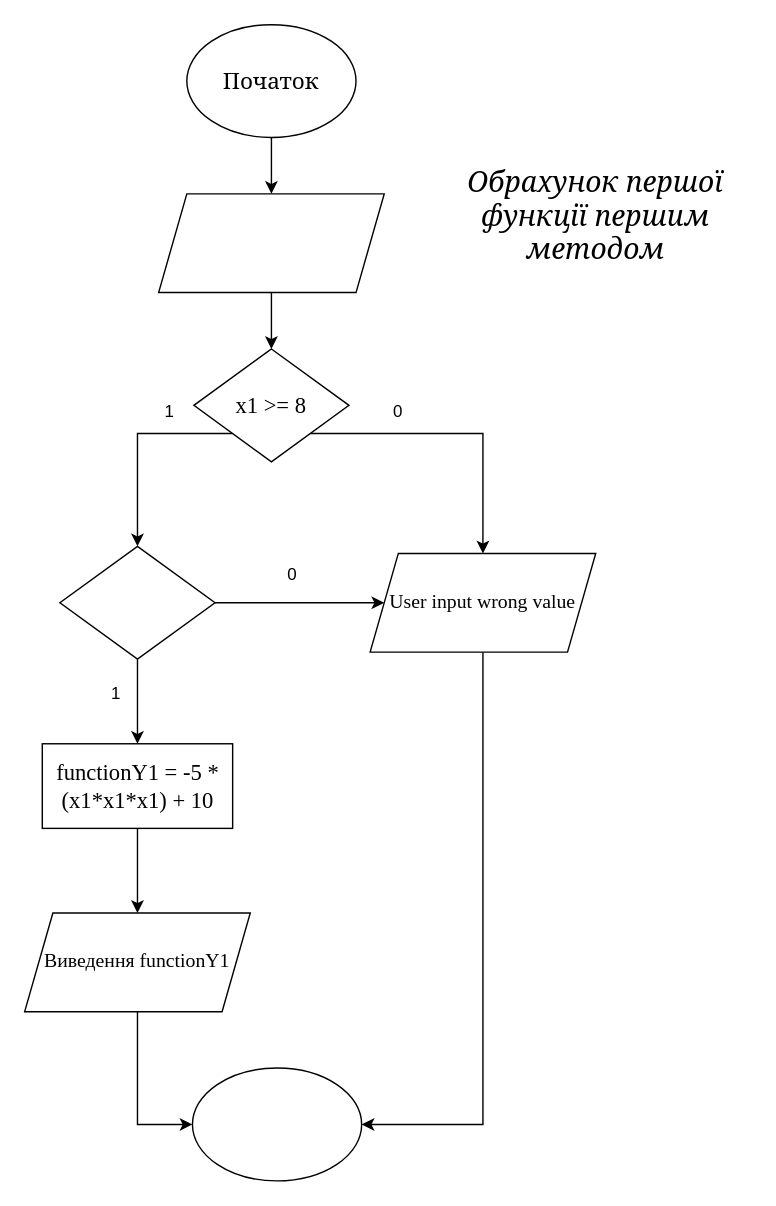
Image size: 776x1206. Some labels were removed from this diagram. Each missing label, with the box of its shape:
Enter value of x1:: (157, 192, 384, 293)
x1 < 23: (59, 545, 215, 659)
Кінець: (191, 1067, 362, 1181)
